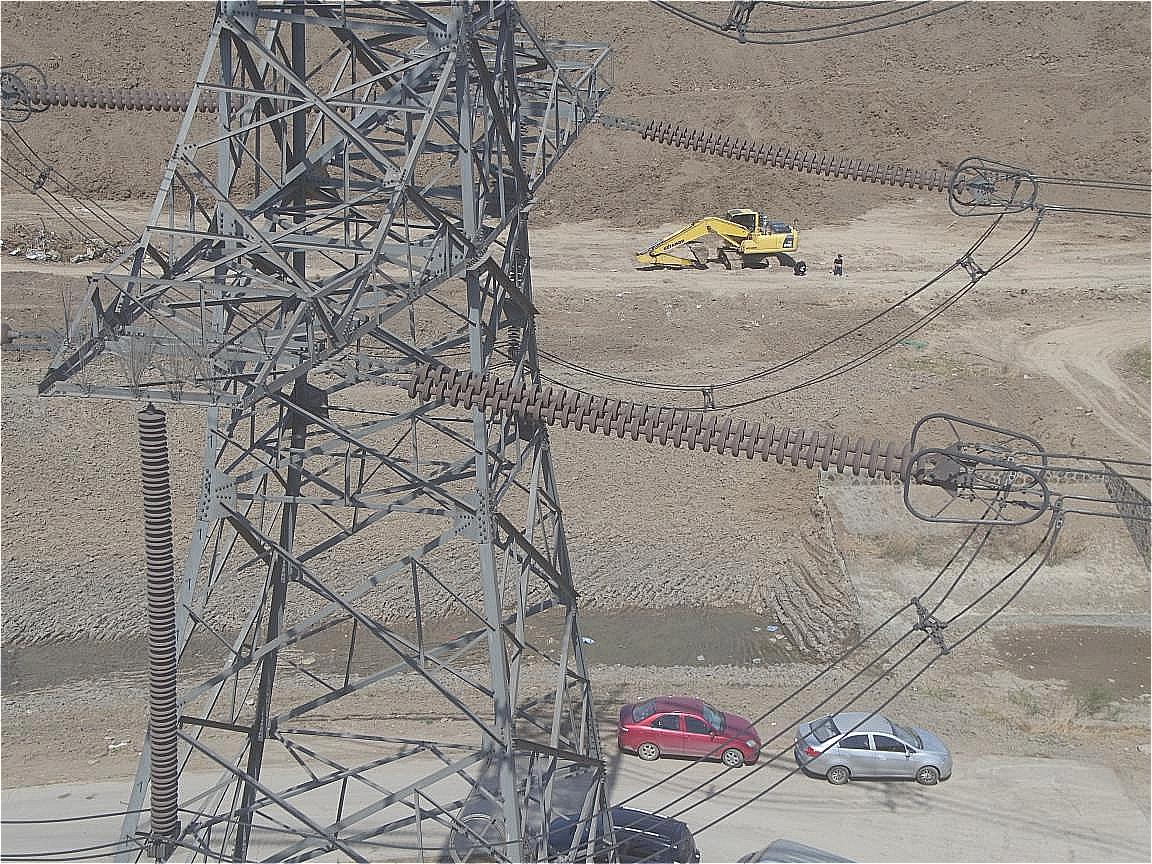insultor1: (379, 341, 997, 501), (639, 112, 988, 201), (116, 403, 186, 747)
